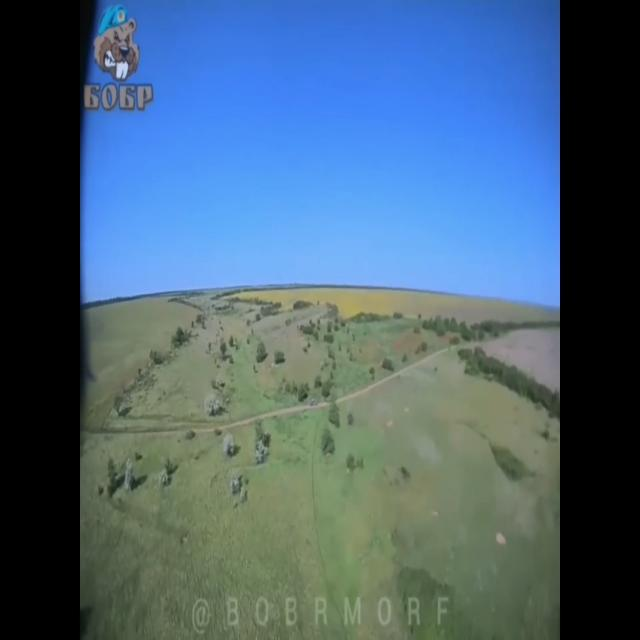cars: (309, 399, 318, 406)
